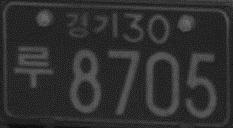0: (143, 51, 181, 117), (146, 13, 169, 45)
3: (121, 11, 144, 44)
5: (183, 52, 218, 119)
7: (106, 48, 139, 116)
8: (67, 48, 103, 115)
경기_O: (64, 12, 119, 38)
루: (12, 44, 54, 87)
